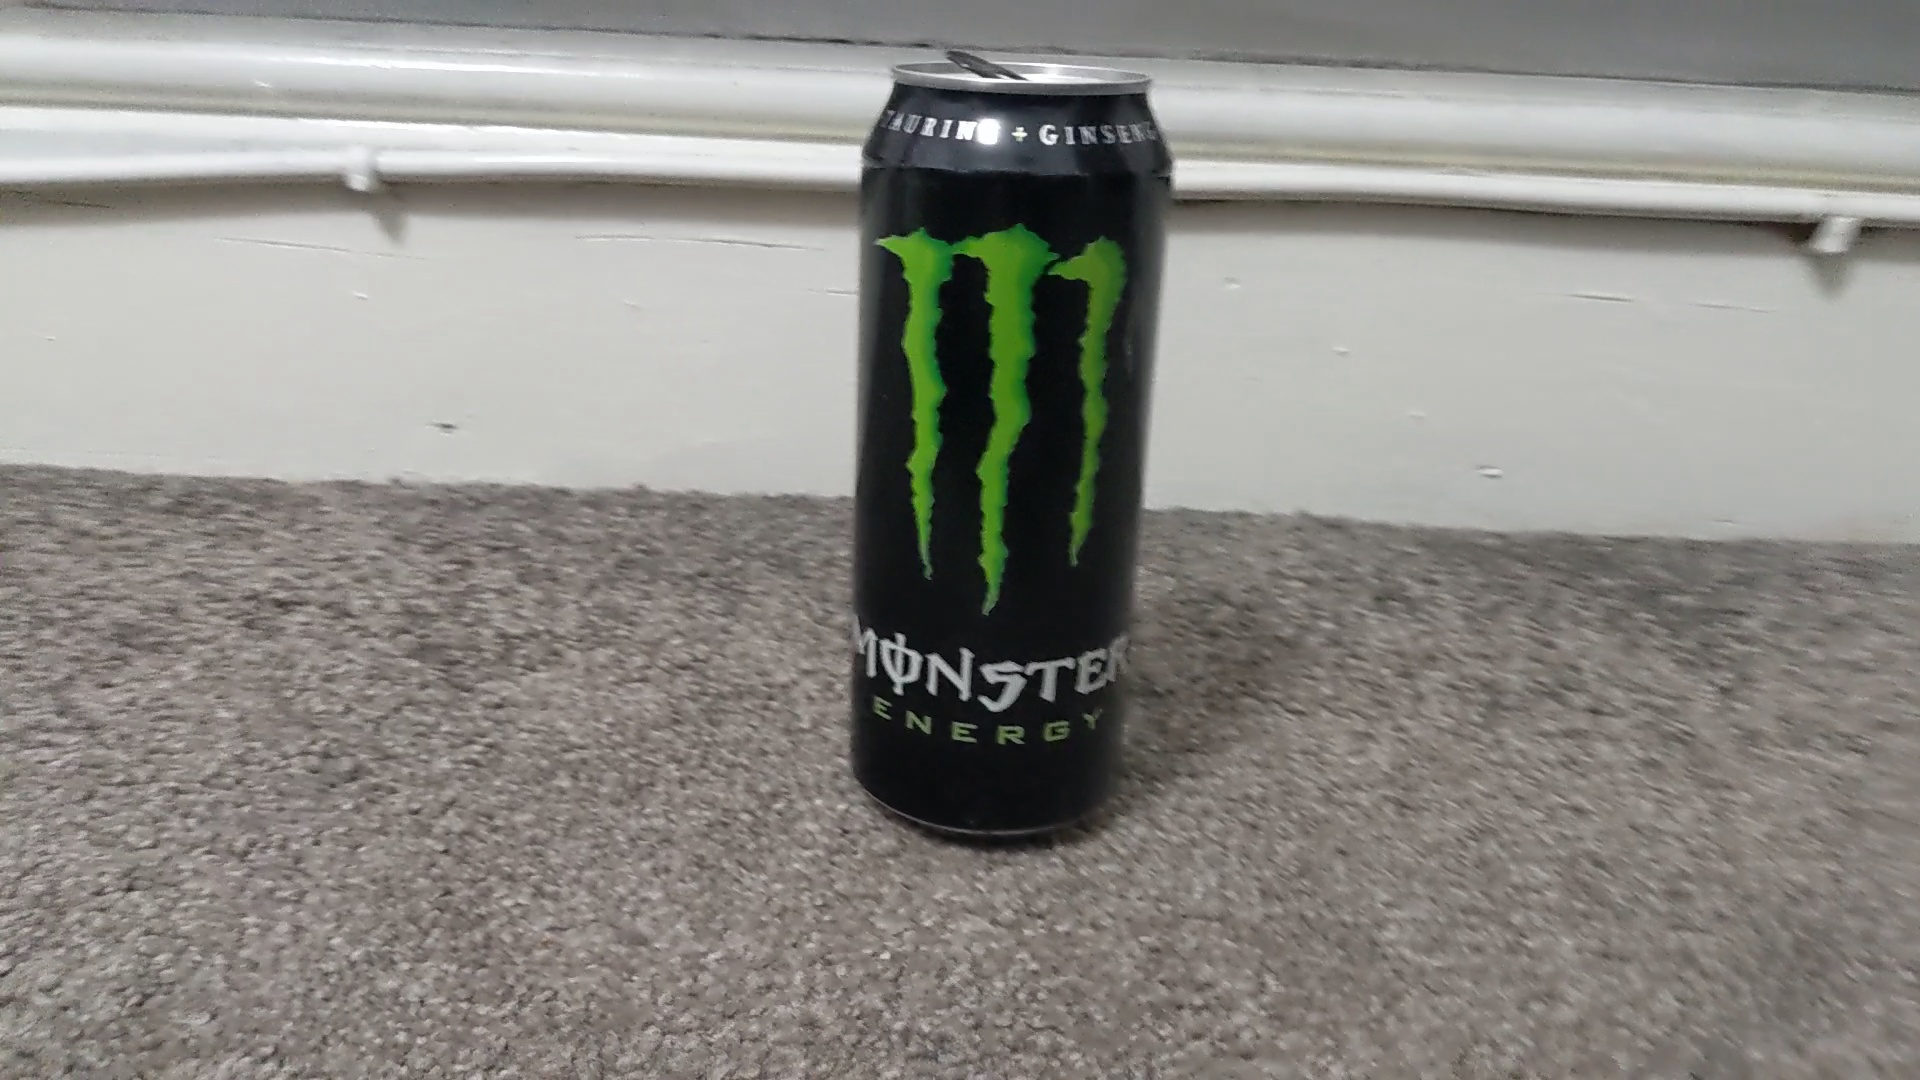monster-original: (848, 61, 1174, 844)
